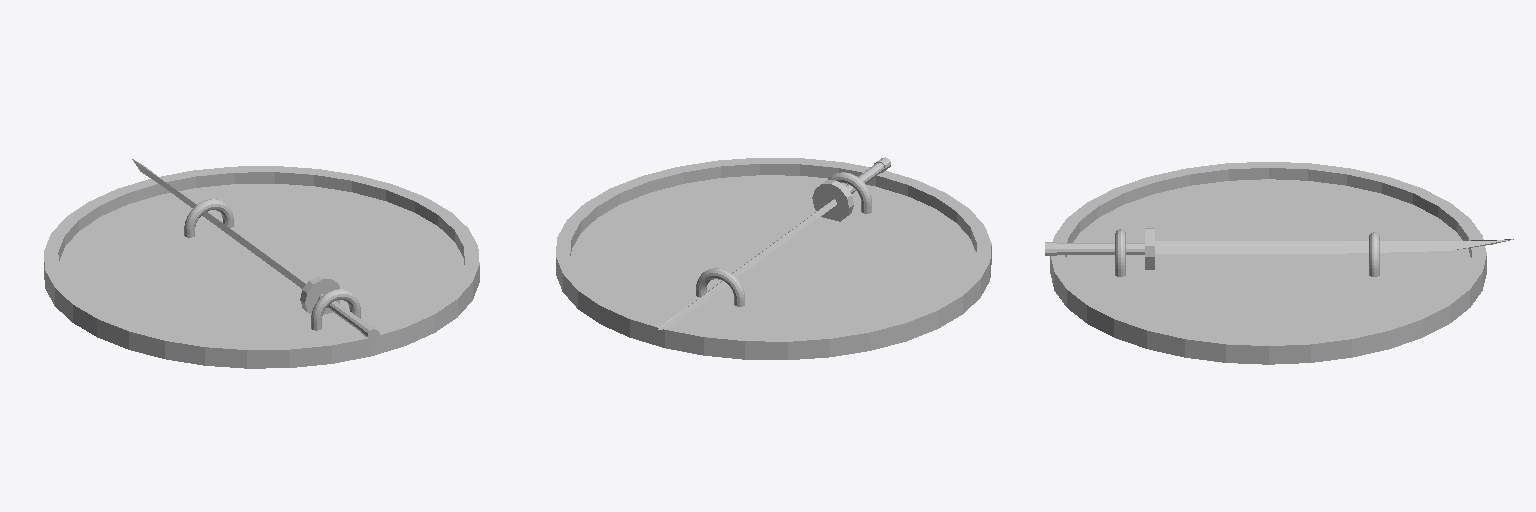
File: ticket.obj
The picture shows the model from 3 angles: view 1: azimuth 30°, elevation 25°; view 2: azimuth 150°, elevation 25°; view 3: azimuth 270°, elevation 25°; orthographic projection.
Parts seen in each view (by area): view 1: Cube; view 2: Cube; view 3: Cube.
Part boxes in pixels (bbox=[...]): Cube: bbox=[44, 159, 479, 368]; Cube: bbox=[556, 157, 991, 359]; Cube: bbox=[1045, 162, 1513, 364].
Size of the model in its own units: 2 by 0.2658 by 2.15.